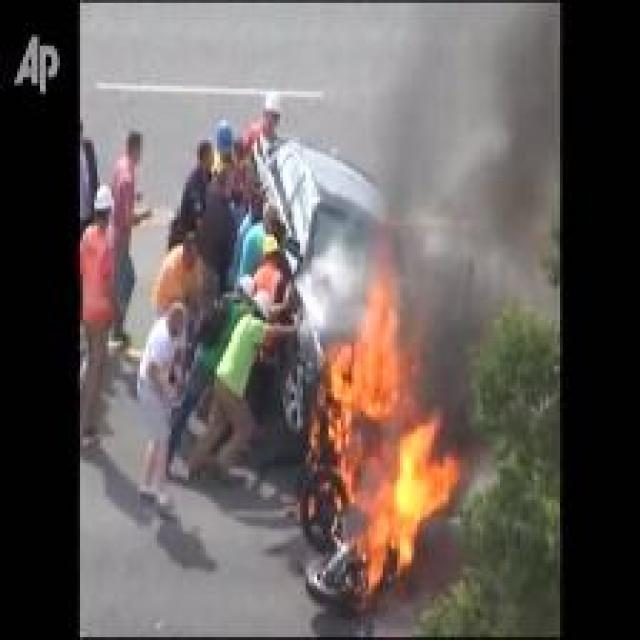Fire: (310, 226, 459, 594)
